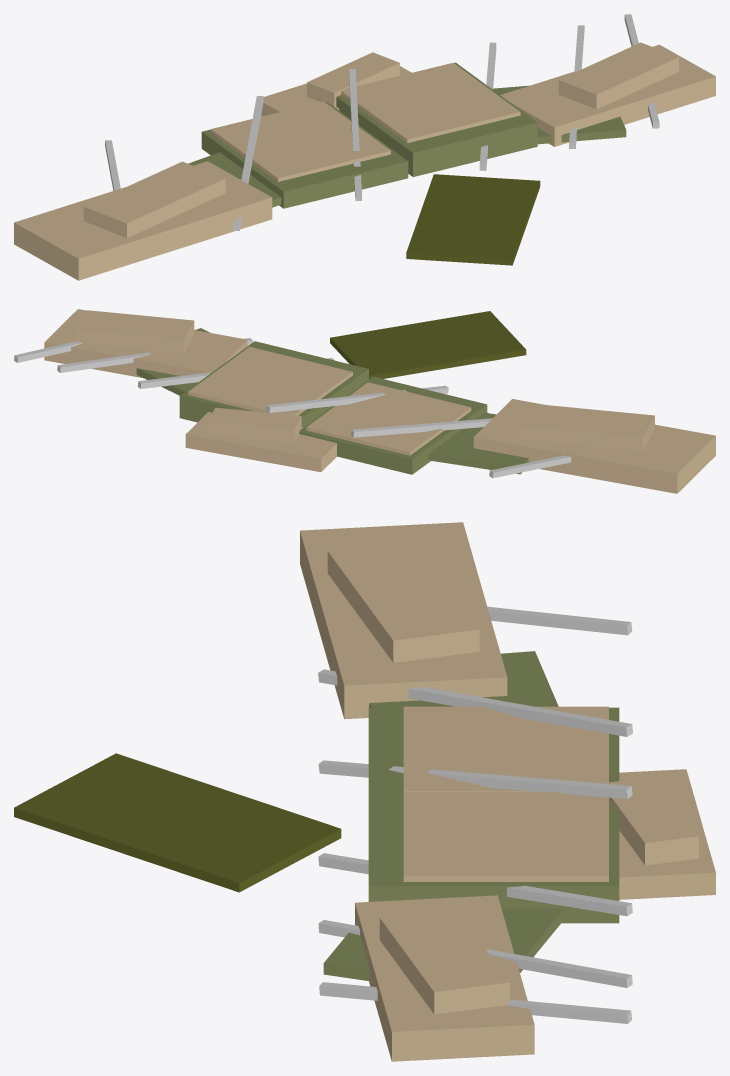
Rendered from SM_HescoCorto2_v4_Red_e3_Brecha_LOD0.fbx.
The picture shows the model from 3 angles, top to bottom: view 1: azimuth 30°, elevation 25°; view 2: azimuth 150°, elevation 25°; view 3: azimuth 270°, elevation 25°; orthographic projection. The views are drawn at different scales.
Visible parts, largest first — view 1: SM_hesco_piezas_v79_LOD0; view 2: SM_hesco_piezas_v79_LOD0; view 3: SM_hesco_piezas_v79_LOD0.
Boxes of the visible parts, x1=… form: SM_hesco_piezas_v79_LOD0: x1=14, y1=14, x2=715, y2=280; SM_hesco_piezas_v79_LOD0: x1=14, y1=309, x2=715, y2=493; SM_hesco_piezas_v79_LOD0: x1=14, y1=522, x2=715, y2=1061.
Size of the model in its own units: 5.83 by 0.3263 by 3.42.
